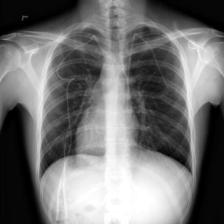normal: (33, 23, 198, 181)
